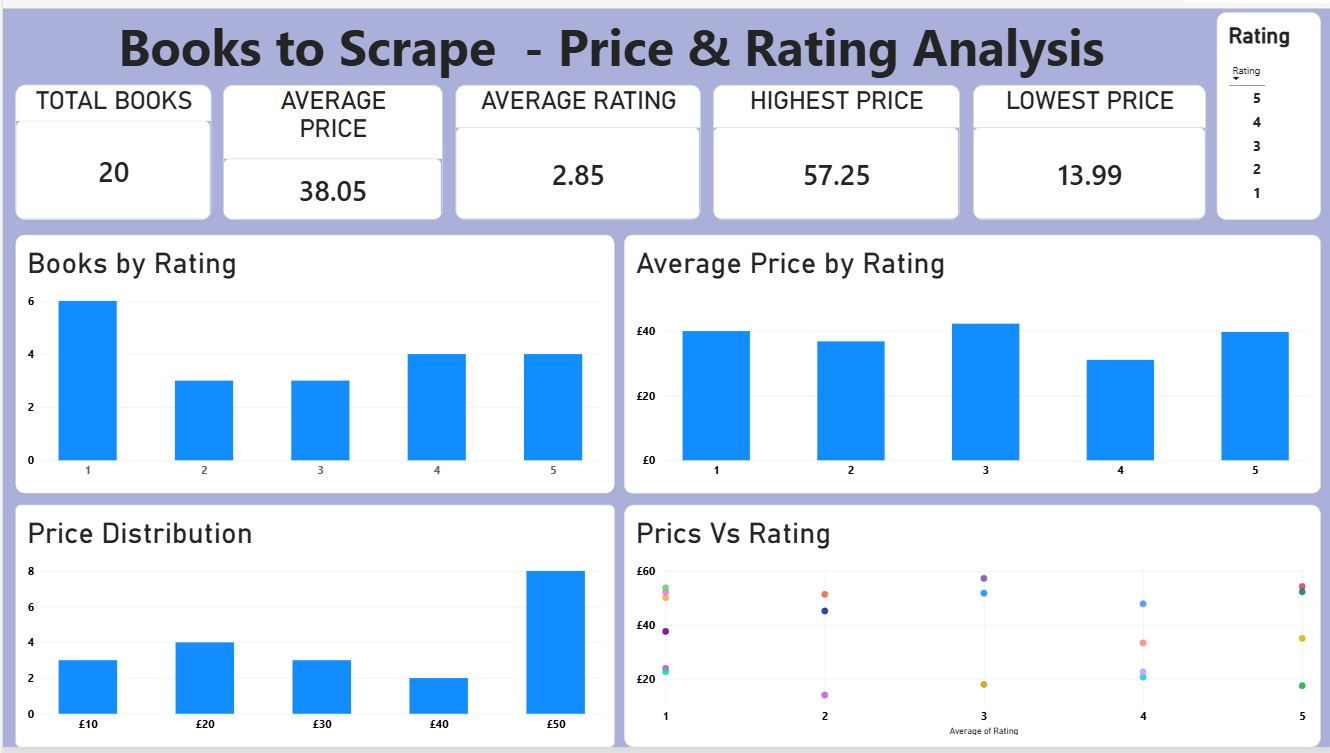

The dashboard page shown, as its layout file describes it:
{"tool":"powerbi","page":{"name":"Page 1","canvas":[1920,1080],"ordinal":0},"visuals":[{"type":"columnChart","title":"Books by Rating","fields":{"Category":["final_cleaned_books.Rating"],"Y":["CountNonNull(final_cleaned_books.Title)"]},"box":[17.3,344.1,861.3,372.2],"z":0},{"type":"columnChart","title":"Average Price by Rating","fields":{"Category":["final_cleaned_books.Rating"],"Y":["Avg(final_cleaned_books.Price)"]},"box":[893.8,344.1,1002,372.2],"z":1},{"type":"columnChart","title":"Price Distribution","fields":{"Category":["final_cleaned_books.Price (bins)"],"Y":["CountNonNull(final_cleaned_books.Title)"]},"box":[17.3,731.5,861.3,348.4],"z":2},{"type":"scatterChart","title":"Prics Vs Rating","fields":{"Category":["final_cleaned_books.Rating"],"X":["Sum(final_cleaned_books.Price)"]},"box":[893.8,731.5,1002,348.4],"z":3},{"type":"tableEx","title":"Rating","fields":{"Values":["final_cleaned_books.Rating"]},"box":[1746.5,23.8,149.3,298.7],"z":4},{"type":"textbox","box":[17.3,23.8,1714,103.9],"z":5},{"type":"cardVisual","title":"TOTAL  BOOKS","fields":{"Data":["final_cleaned_books.Total Books"]},"box":[17.3,127.7,281.3,194.8],"z":6},{"type":"cardVisual","title":"AVERAGE PRICE","fields":{"Data":["final_cleaned_books.Average Price"]},"box":[316,127.7,316,194.8],"z":7},{"type":"cardVisual","title":"AVERAGE RATING","fields":{"Data":["final_cleaned_books.Average Price"]},"box":[651.4,127.7,352.8,194.8],"z":8},{"type":"cardVisual","title":"HIGHEST PRICE","fields":{"Data":["final_cleaned_books.Highest Price"]},"box":[1021.5,127.7,354.9,194.8],"z":9},{"type":"cardVisual","title":"LOWEST PRICE","fields":{"Data":["final_cleaned_books.Lowest Price"]},"box":[1395.9,127.7,335.4,194.8],"z":10}]}

Visuals, with their boxes in screenshot pixels (x1, y1, x2, y2), scaled from the page's 1920x1080 canvas onto the 1330x753 screenshot:
"Books by Rating" columnChart: pyautogui.locateOnScreen(12, 240, 609, 499)
"Average Price by Rating" columnChart: pyautogui.locateOnScreen(619, 240, 1313, 499)
"Price Distribution" columnChart: pyautogui.locateOnScreen(12, 510, 609, 752)
"Prics Vs Rating" scatterChart: pyautogui.locateOnScreen(619, 510, 1313, 752)
"Rating" tableEx: pyautogui.locateOnScreen(1210, 17, 1313, 225)
textbox: pyautogui.locateOnScreen(12, 17, 1199, 89)
"TOTAL  BOOKS" cardVisual: pyautogui.locateOnScreen(12, 89, 207, 225)
"AVERAGE PRICE" cardVisual: pyautogui.locateOnScreen(219, 89, 438, 225)
"AVERAGE RATING" cardVisual: pyautogui.locateOnScreen(451, 89, 696, 225)
"HIGHEST PRICE" cardVisual: pyautogui.locateOnScreen(708, 89, 953, 225)
"LOWEST PRICE" cardVisual: pyautogui.locateOnScreen(967, 89, 1199, 225)
